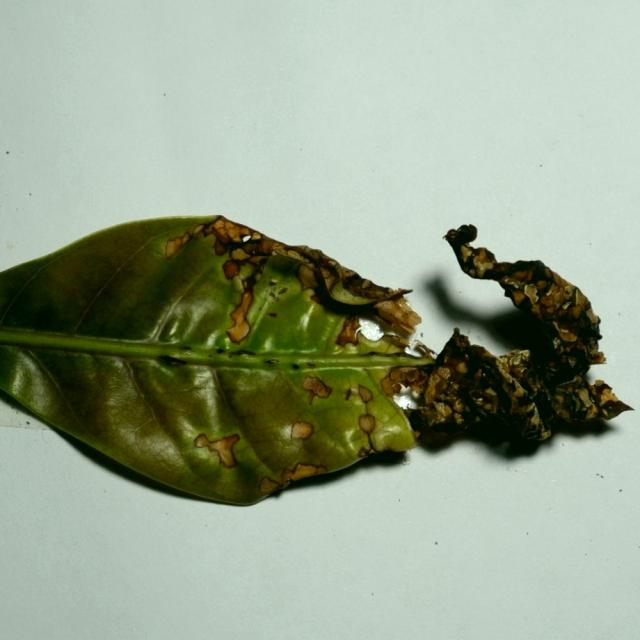Anthracnose: (167, 216, 258, 261), (337, 308, 418, 351), (223, 282, 260, 343), (352, 384, 382, 456), (259, 461, 328, 492), (587, 381, 632, 420), (193, 432, 241, 468), (457, 379, 510, 410), (380, 365, 426, 398), (221, 250, 266, 282), (300, 375, 332, 405), (334, 315, 361, 348), (469, 247, 498, 276), (164, 233, 191, 259), (226, 318, 251, 344), (429, 367, 452, 395), (345, 383, 372, 405), (431, 401, 455, 423), (503, 349, 532, 367), (282, 248, 310, 266), (289, 420, 314, 440), (210, 225, 231, 247), (258, 476, 282, 495), (380, 375, 400, 396), (267, 283, 288, 303), (297, 265, 316, 287), (400, 307, 422, 326), (508, 267, 534, 283), (222, 259, 241, 280), (444, 356, 467, 373), (157, 355, 189, 367), (572, 289, 590, 310), (523, 284, 540, 306), (584, 336, 601, 355), (576, 388, 592, 408), (565, 287, 580, 308), (555, 379, 579, 392), (539, 294, 557, 310), (566, 304, 584, 320), (557, 328, 577, 342), (587, 350, 607, 364), (510, 290, 527, 306), (584, 309, 600, 325), (584, 404, 600, 420), (193, 433, 210, 448), (459, 244, 473, 262), (452, 399, 468, 414), (570, 395, 582, 412), (512, 364, 527, 377), (356, 446, 372, 458), (304, 388, 315, 405), (543, 282, 555, 296), (506, 379, 518, 392), (513, 386, 526, 398), (566, 356, 578, 369), (405, 370, 418, 382), (192, 224, 205, 235), (315, 463, 328, 474), (536, 280, 548, 291), (361, 279, 373, 289), (552, 336, 561, 349), (361, 351, 379, 357), (467, 267, 477, 277), (250, 232, 261, 241), (561, 301, 572, 310), (264, 359, 280, 365), (180, 345, 194, 351), (278, 287, 288, 295), (269, 292, 278, 300), (564, 286, 572, 295), (306, 362, 317, 368), (291, 364, 301, 370), (215, 348, 225, 354), (268, 312, 277, 318), (26, 421, 30, 425)
Mango: (0, 216, 607, 509)
